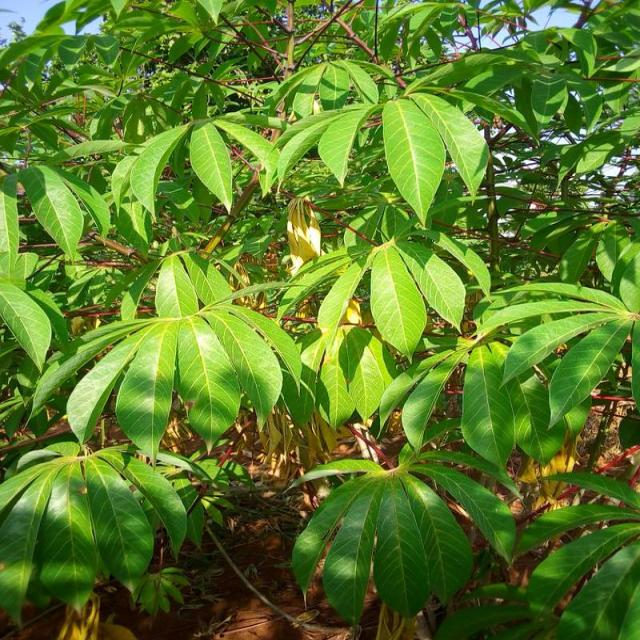cassava leaf: (2, 1, 639, 636), (55, 250, 300, 464), (382, 96, 448, 228)
